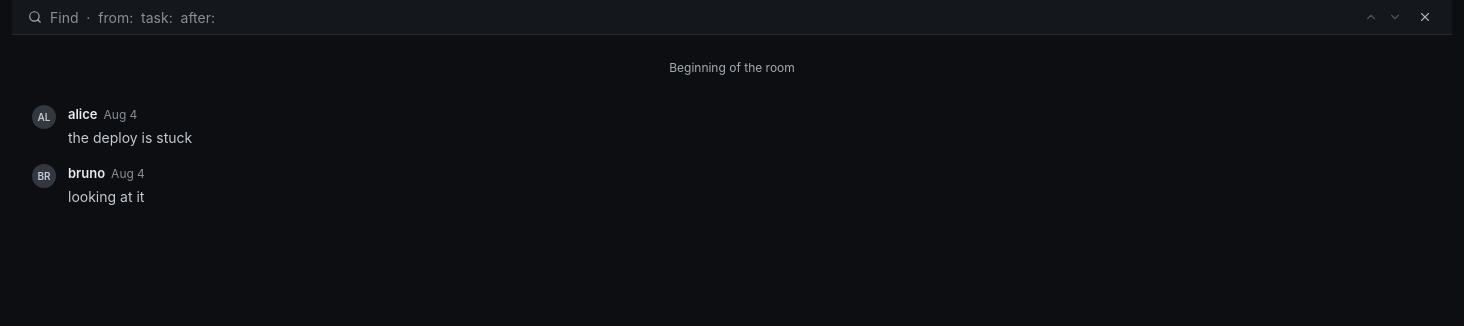
Test: <EventStream /> find: the room's whole history › asks the hub, lists every hit with where it was said, and narrows by a count
Type "deploy" into the field named "Find in the channel" at (697, 17), box left=50, top=6, right=1344, bottom=28
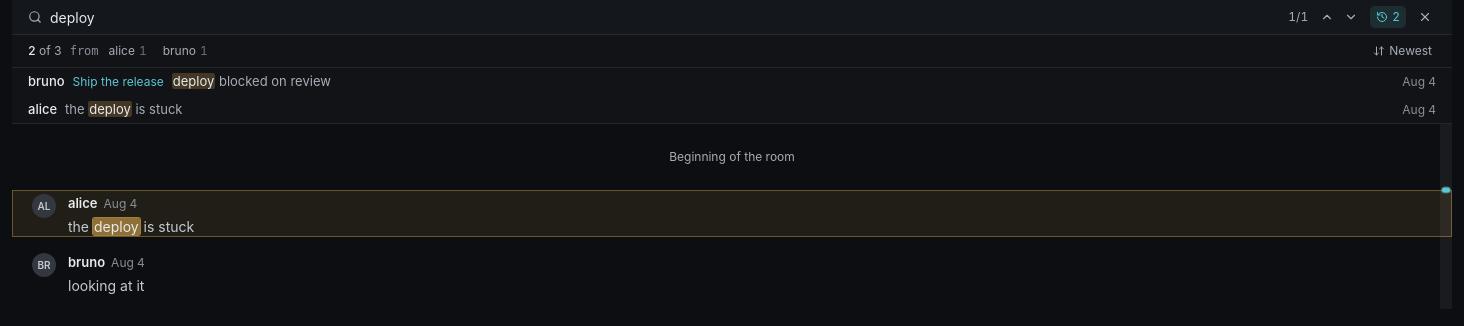
Now the text "Ship the release" is shown, box left=73, top=73, right=164, bottom=91
Now the button named "Search history, 2 matches" is shown, box left=1370, top=6, right=1406, bottom=28
A count is a switch: on adds the clause to the query, and the bar says so.
Click the button titled "from:bruno" at (185, 51), box left=157, top=41, right=214, bottom=61
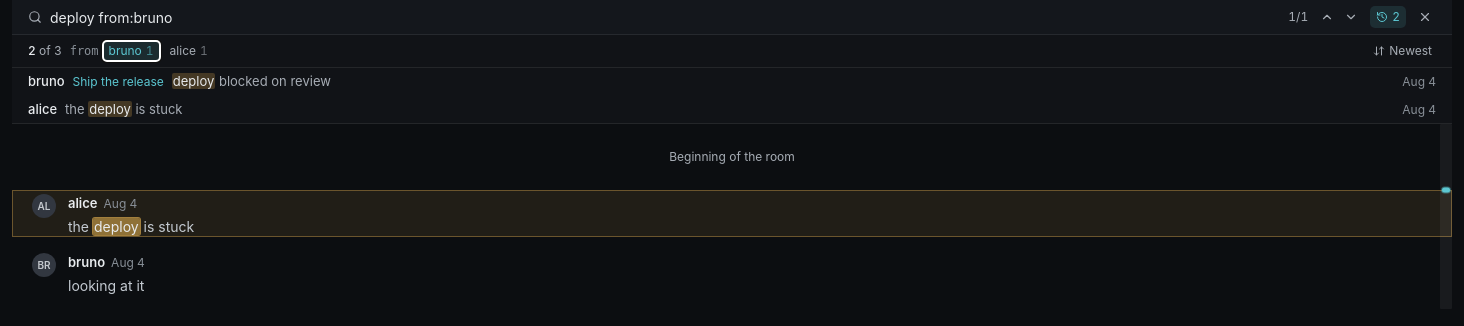
Now the field named "Find in the channel" holds "deploy from:bruno", box left=50, top=6, right=1280, bottom=28
